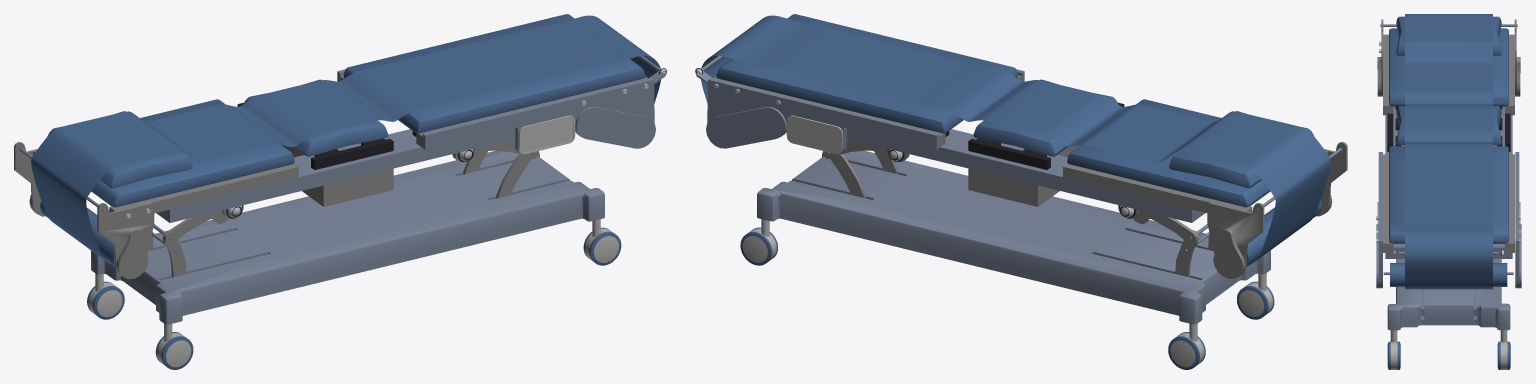
The model's file is Stretcher.fbx.
3 renders of one model, left to right at view 1: azimuth 30°, elevation 25°; view 2: azimuth 150°, elevation 25°; view 3: azimuth 270°, elevation 25°, orthographic. The views are drawn at different scales.
Parts seen in each view (by area): view 1: camilla, camilla_base, Sabana_sinfin, rueda_03, rueda_01, rueda_02; view 2: camilla, camilla_base, Sabana_sinfin, rueda_02, rueda_01, rueda_04; view 3: Sabana_sinfin, camilla, camilla_base, rueda_04, rueda_03.
Boxes of the visible parts, x1,y1,x2,y2 form: camilla: (14, 14, 666, 279); camilla_base: (91, 139, 604, 341); Sabana_sinfin: (31, 15, 660, 264); rueda_03: (583, 227, 621, 265); rueda_01: (87, 281, 124, 319); rueda_02: (155, 332, 193, 369); camilla: (695, 14, 1347, 278); camilla_base: (757, 139, 1270, 341); Sabana_sinfin: (701, 15, 1330, 264); rueda_02: (1237, 281, 1274, 319); rueda_01: (1168, 332, 1205, 369); rueda_04: (740, 227, 777, 265); Sabana_sinfin: (1405, 14, 1492, 289); camilla: (1376, 16, 1521, 288); camilla_base: (1387, 259, 1510, 342); rueda_04: (1497, 341, 1510, 369); rueda_03: (1387, 341, 1400, 369).
Size of the model in its own units: 244 by 83.69 by 66.34.
